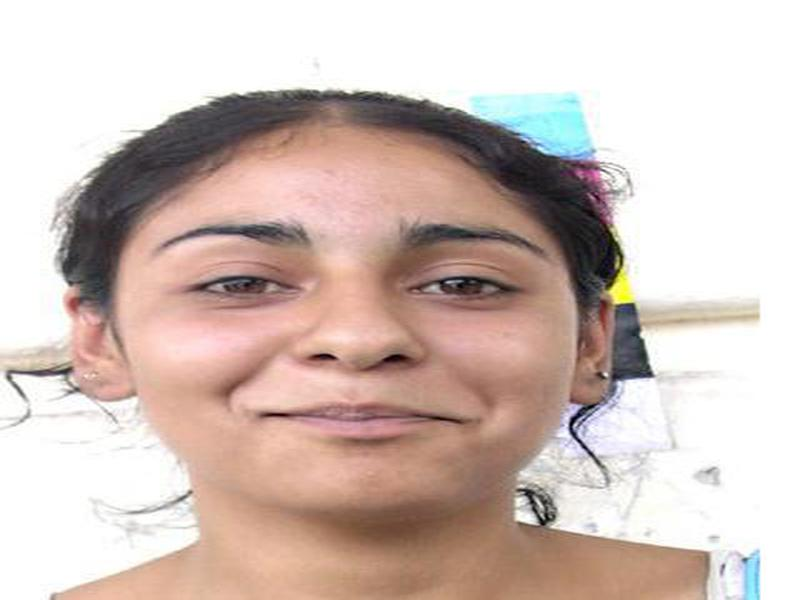without_mask: (112, 204, 576, 516)
